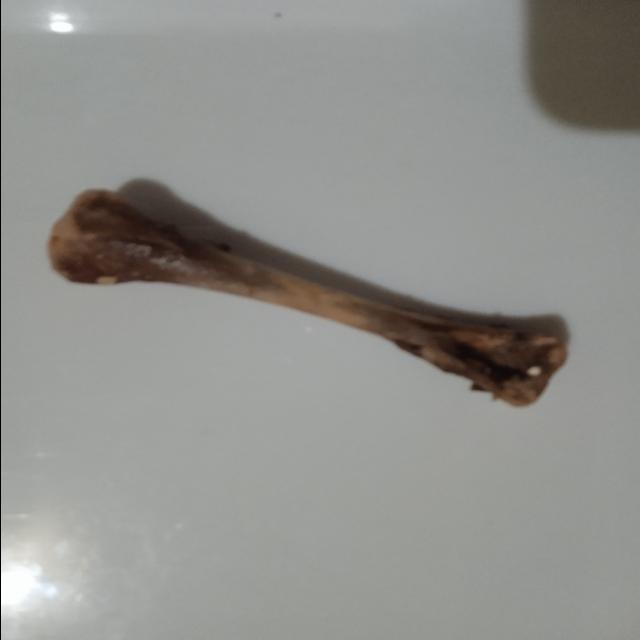bone: (30, 174, 578, 418)
